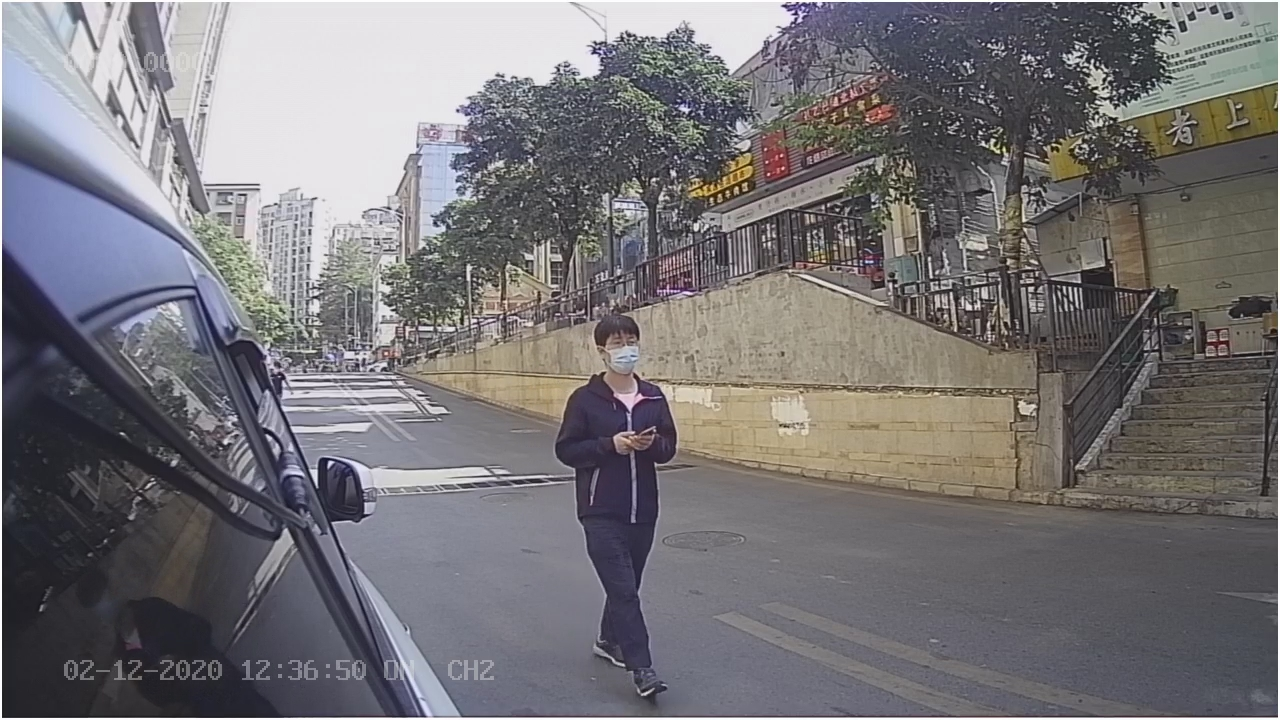person: (555, 305, 686, 699)
